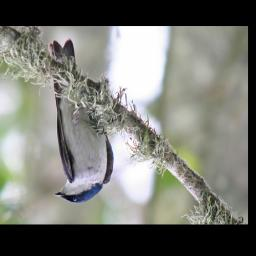Swallow: (46, 38, 115, 205)
